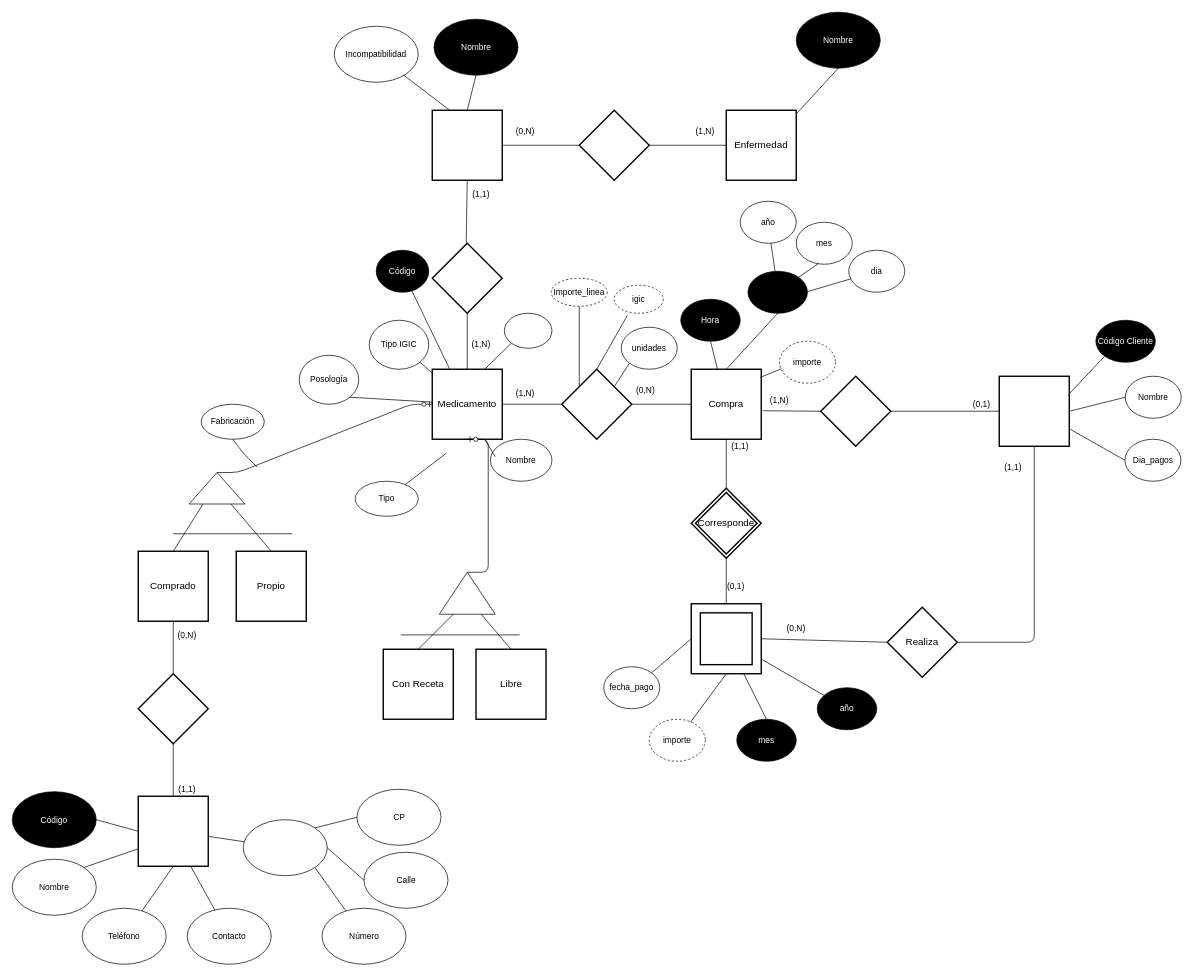
Some shapes in this 1194 by 977 pixel diagram are drawn without their labels. Each missing label, with the box of its shape:
Cliente: (998, 375, 1070, 447)
Dirección: (243, 819, 327, 876)
Familia: (431, 109, 503, 181)
Fecha: (747, 271, 807, 313)
Laboratorio: (137, 795, 209, 867)
Pago Crédito: (690, 603, 762, 674)
Pertenece: (431, 242, 503, 314)
Precio: (504, 313, 552, 348)
Provee: (137, 673, 209, 744)
RealizadaMC: (820, 375, 891, 447)
Se_preescribe: (578, 109, 650, 181)
Vendido_MC: (561, 368, 632, 440)
